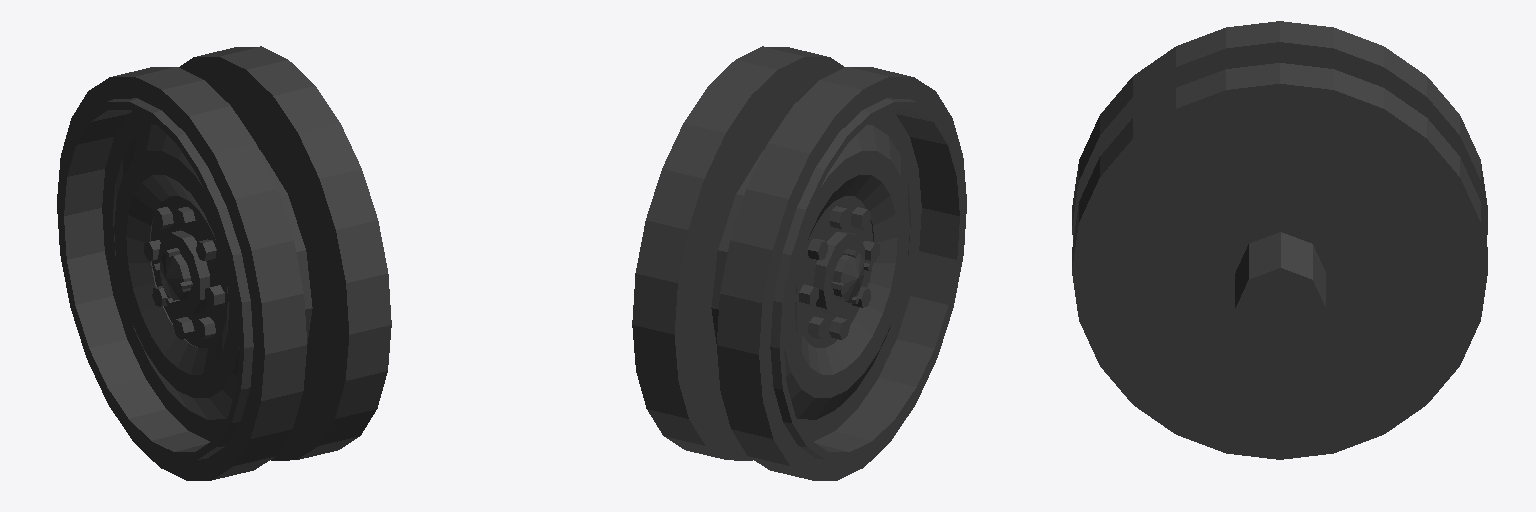
File: Roller.obj
3 views of the same model, side by side, from view 1: azimuth 30°, elevation 25°; view 2: azimuth 150°, elevation 25°; view 3: azimuth 270°, elevation 25° (orthographic).
Parts seen in each view (by area): view 1: jezdne13; view 2: jezdne13; view 3: jezdne13.
Part boxes in pixels (x1,y1,x2,y2): jezdne13: (57, 46, 391, 480); jezdne13: (632, 46, 966, 480); jezdne13: (1072, 21, 1487, 459).
Size of the model in its own units: 9.87 by 17.03 by 17.